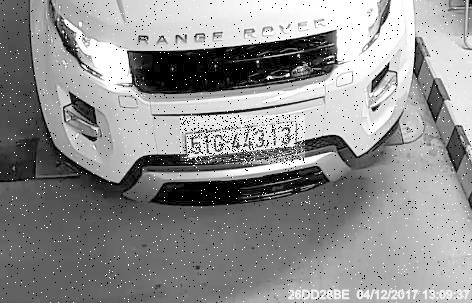License-plate: (181, 116, 306, 165)
